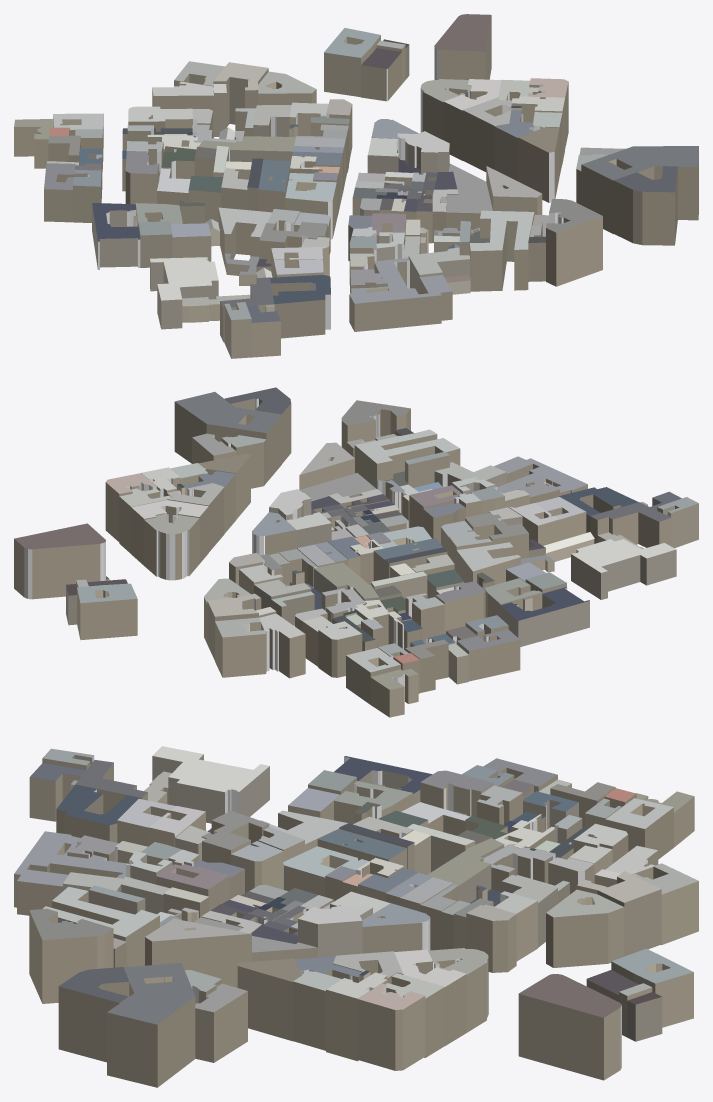
The picture shows the model from 3 angles, top to bottom: view 1: azimuth 30°, elevation 25°; view 2: azimuth 150°, elevation 25°; view 3: azimuth 270°, elevation 25°; orthographic projection. The views are drawn at different scales.
Visible parts, largest first — view 1: tuile; view 2: tuile; view 3: tuile.
Boxes of the visible parts, box(x1,y1,x2,y2) form: tuile: box(14, 14, 698, 358); tuile: box(14, 387, 698, 717); tuile: box(14, 746, 698, 1087).
Size of the model in its own units: 295 by 31.25 by 277.
